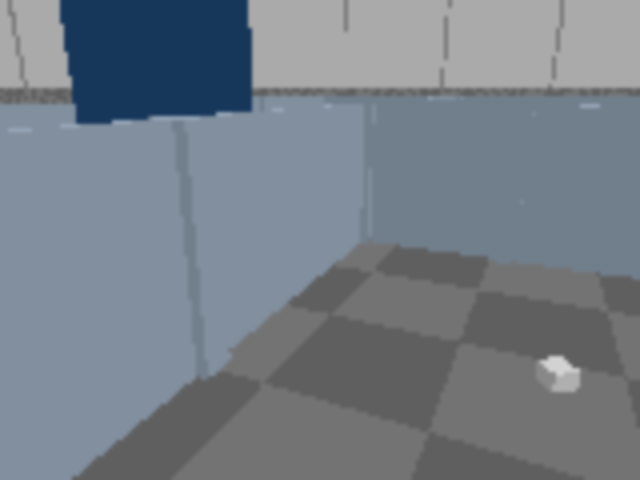puck: (535, 357, 581, 394)
